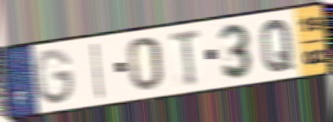0: (125, 36, 166, 93)
3: (216, 21, 255, 82)
G: (32, 47, 76, 107)
I: (90, 40, 105, 102)
Q: (259, 17, 295, 75)
T: (168, 26, 203, 88)
